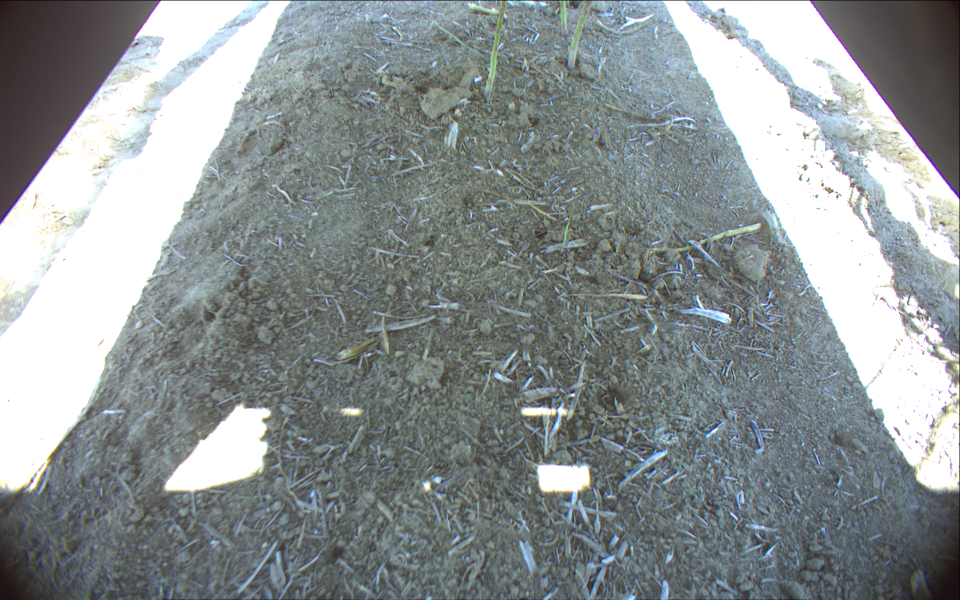aspa: (481, 1, 509, 104), (565, 1, 592, 71), (558, 1, 568, 42)
